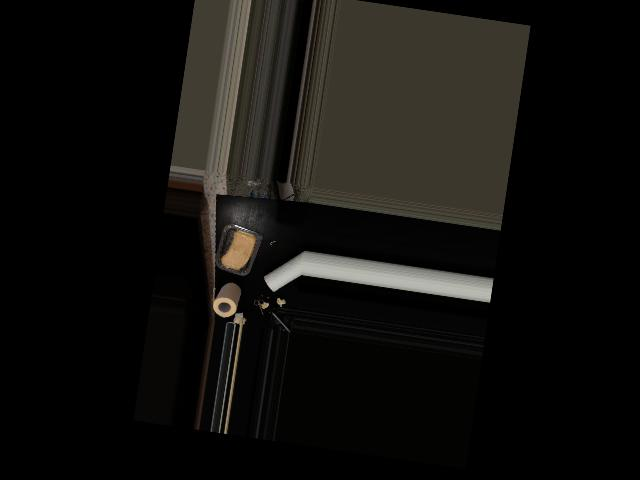cheese: (216, 222, 262, 277)
